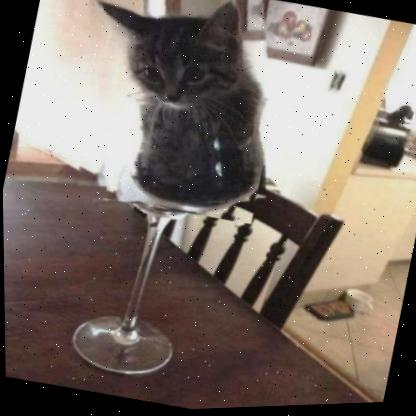cat: (57, 0, 296, 230)
